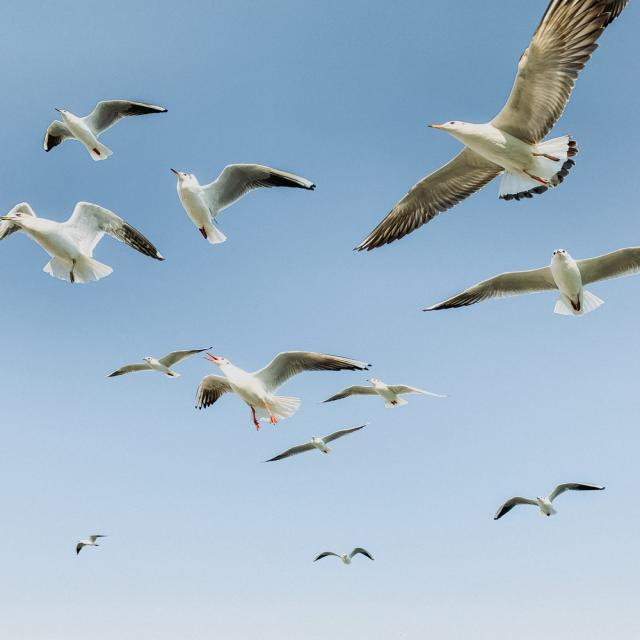bird: (353, 0, 623, 251), (415, 247, 632, 331), (191, 349, 372, 434), (2, 204, 166, 286), (162, 162, 318, 245), (41, 100, 170, 161), (319, 383, 448, 418), (496, 482, 608, 522), (266, 427, 367, 469), (105, 340, 201, 375), (314, 548, 376, 571), (74, 536, 108, 556)
